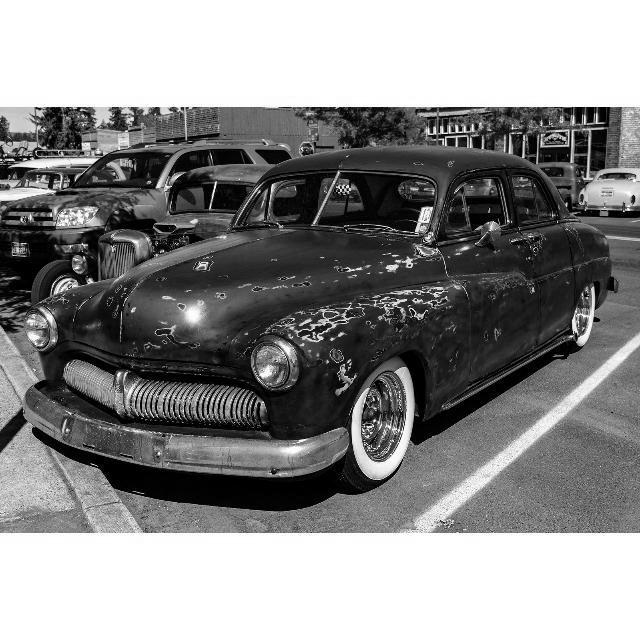doorouter-dent: (456, 240, 538, 364)
fender-dent: (318, 298, 453, 392)
